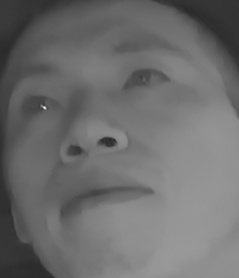eye: (120, 62, 178, 102), (15, 87, 61, 126)
mouth: (58, 172, 154, 229)
